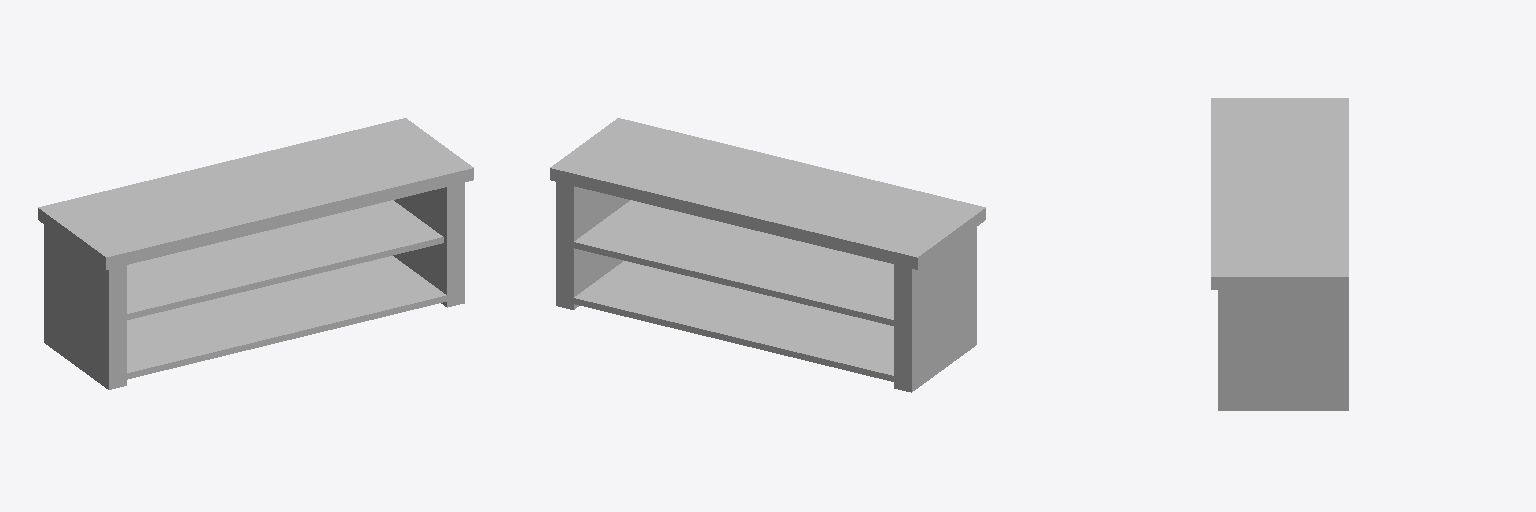
Rendered from shoe rack.obj.
3 views of the same model, side by side, from view 1: azimuth 30°, elevation 25°; view 2: azimuth 150°, elevation 25°; view 3: azimuth 270°, elevation 25° (orthographic).
Visible parts, largest first — view 1: shoe_rack; view 2: shoe_rack; view 3: shoe_rack.
Boxes of the visible parts, box(x1,y1,x2,y2) form: shoe_rack: box(38, 118, 473, 389); shoe_rack: box(550, 118, 985, 392); shoe_rack: box(1211, 98, 1348, 410).
Bounding box in the file's own units: 62 × 22 × 20.